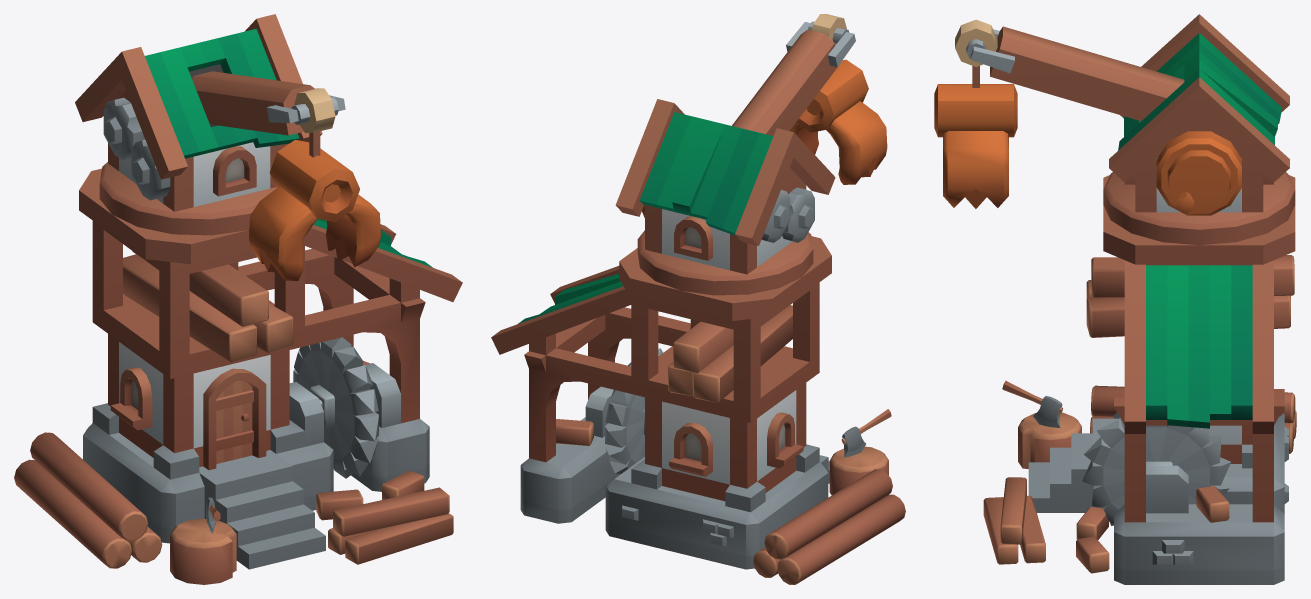
The model's file is building_lumbermill_green.glb.
3 views of the same model, side by side, from view 1: azimuth 30°, elevation 25°; view 2: azimuth 150°, elevation 25°; view 3: azimuth 270°, elevation 25° (orthographic). The views are drawn at different scales.
Visible parts, largest first — view 1: building_lumbermill_green, building_lumbermill_top_green, building_lumbermill_saw_green; view 2: building_lumbermill_green, building_lumbermill_top_green, building_lumbermill_saw_green; view 3: building_lumbermill_green, building_lumbermill_top_green, building_lumbermill_saw_green.
Part boxes in pixels (box(x1,y1,x2,y2)): building_lumbermill_green: box(14, 168, 462, 584); building_lumbermill_top_green: box(75, 14, 380, 280); building_lumbermill_saw_green: box(293, 337, 378, 478); building_lumbermill_green: box(491, 236, 905, 584); building_lumbermill_top_green: box(615, 14, 887, 295); building_lumbermill_saw_green: box(605, 348, 662, 474); building_lumbermill_green: box(983, 175, 1296, 584); building_lumbermill_top_green: box(934, 14, 1295, 245); building_lumbermill_saw_green: box(1082, 417, 1231, 525).
Size of the model in its own units: 1.37 by 1.71 by 1.19.
Materials: 1 (1 with a texture image).
